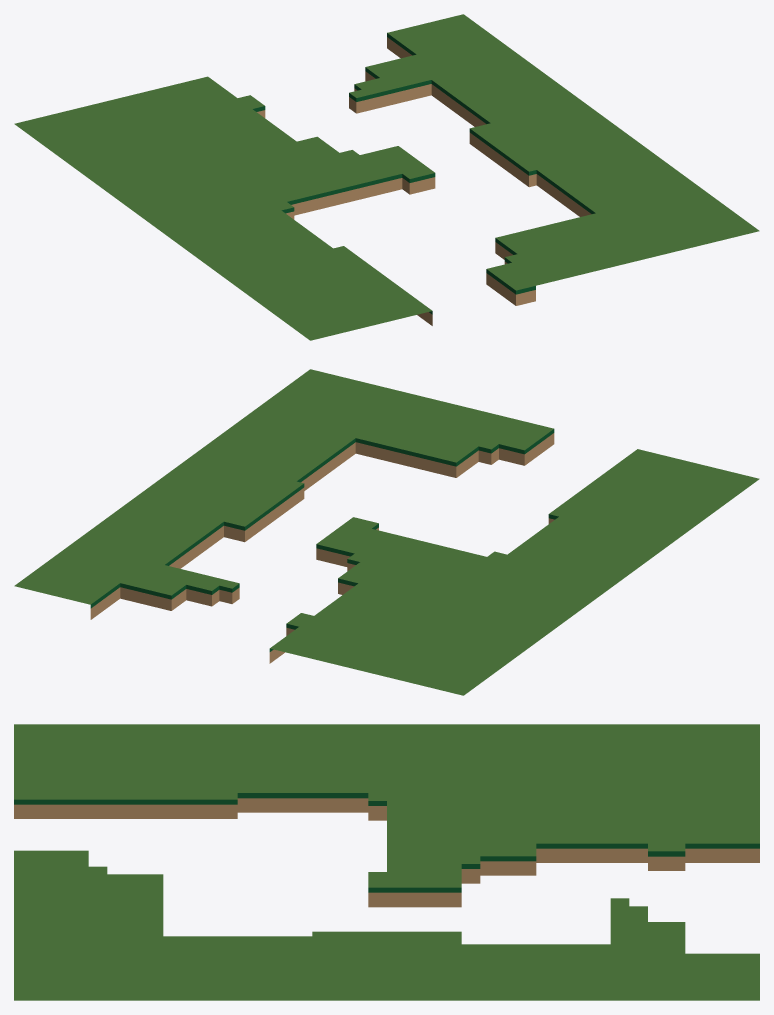
Rendered from SM_Env_Tile_04.fbx.
3 renders of one model, top to bottom at view 1: azimuth 30°, elevation 25°; view 2: azimuth 150°, elevation 25°; view 3: azimuth 270°, elevation 25°, orthographic. The views are drawn at different scales.
Visible parts, largest first — view 1: SM_Env_Tile_04; view 2: SM_Env_Tile_04; view 3: SM_Env_Tile_04.
Part boxes in pixels (bbox=[...]): SM_Env_Tile_04: bbox=[14, 14, 759, 340]; SM_Env_Tile_04: bbox=[14, 369, 759, 695]; SM_Env_Tile_04: bbox=[14, 724, 759, 1000].
Size of the model in its own units: 87.59 by 100 by 2.89.
